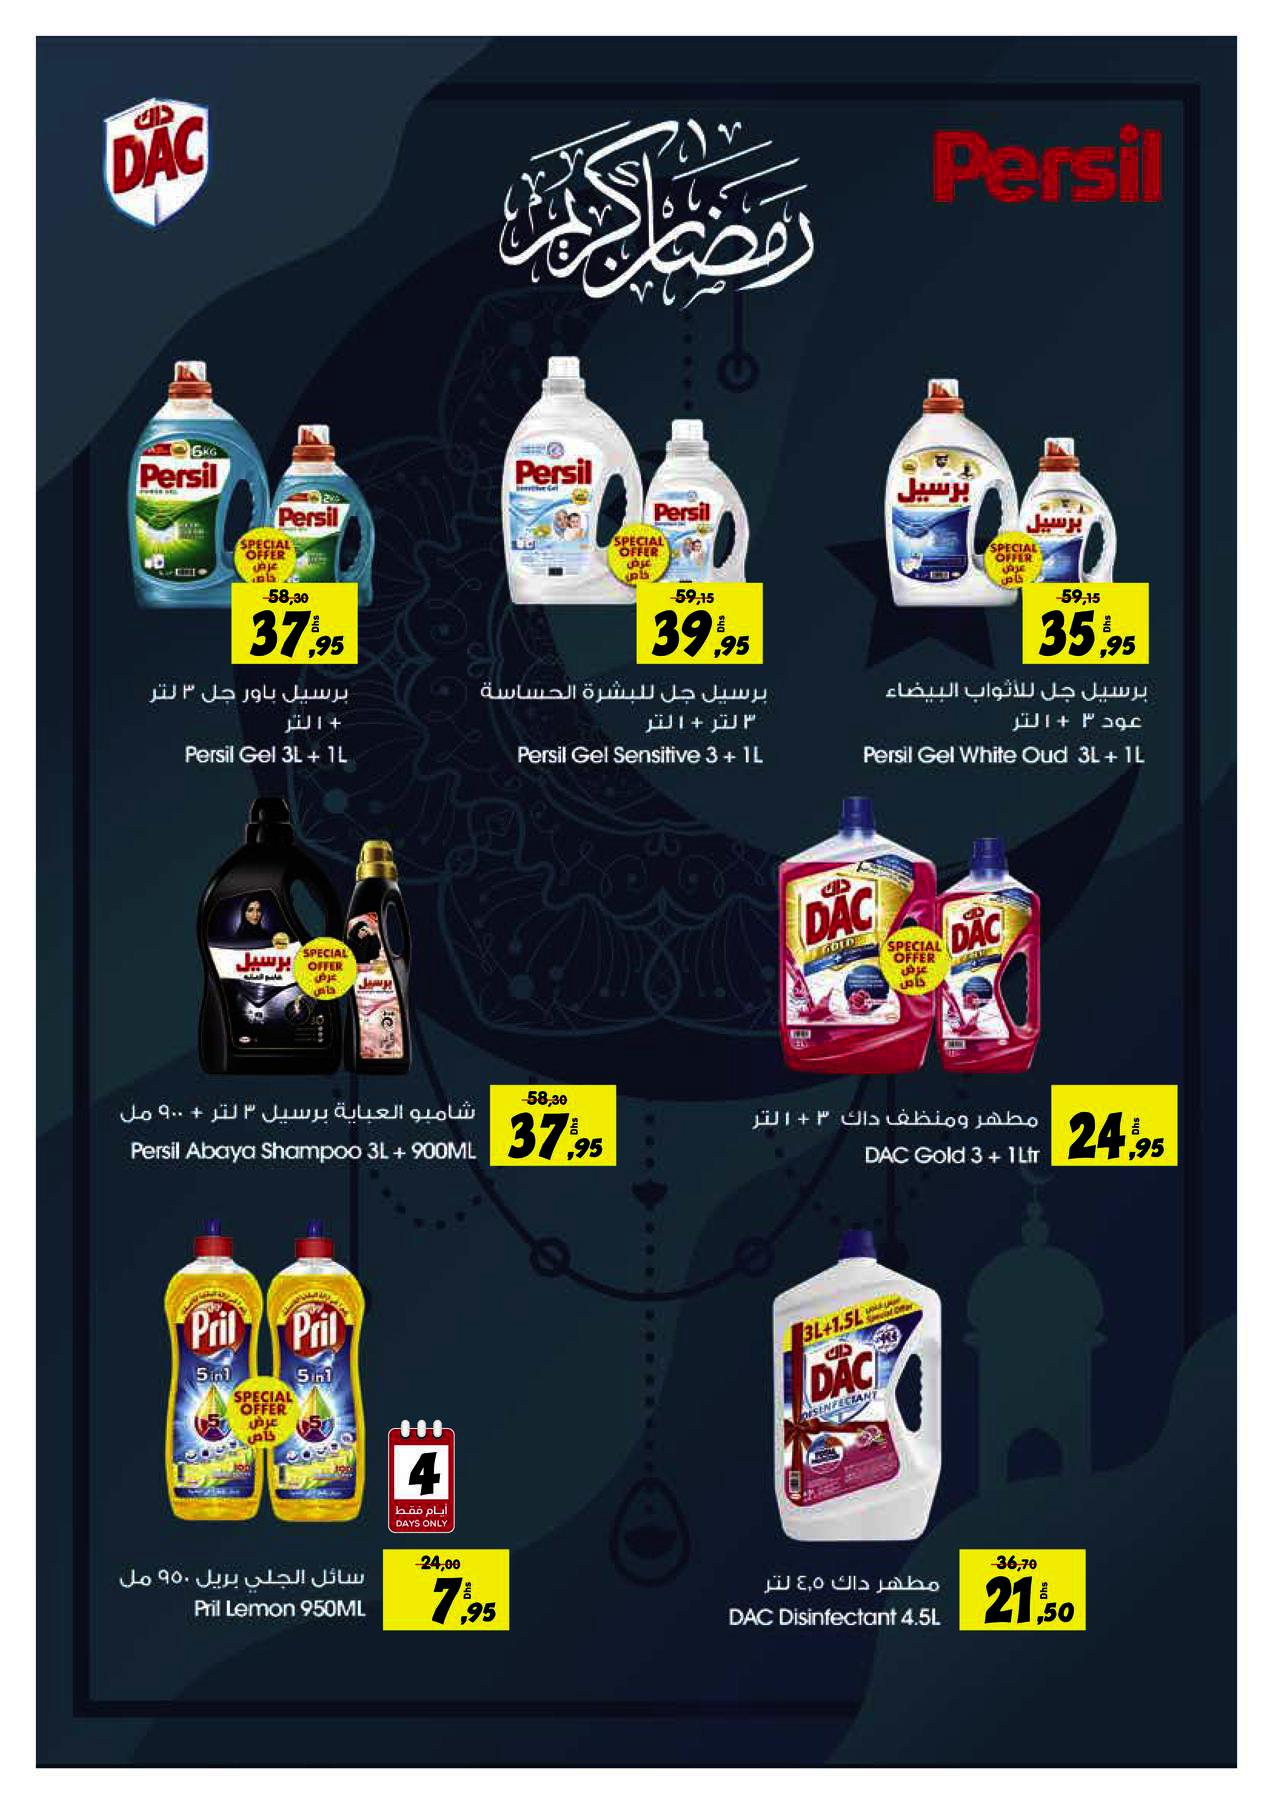text: (918, 107, 1172, 231), (878, 662, 1153, 742), (459, 678, 780, 737), (106, 1088, 486, 1138), (128, 673, 371, 735), (114, 1138, 484, 1173), (858, 733, 1155, 775), (734, 1102, 1044, 1138), (719, 1599, 951, 1644), (106, 1560, 371, 1596), (503, 740, 774, 773), (172, 733, 365, 778), (851, 1139, 1051, 1179), (180, 1591, 375, 1629), (745, 1563, 948, 1599)
